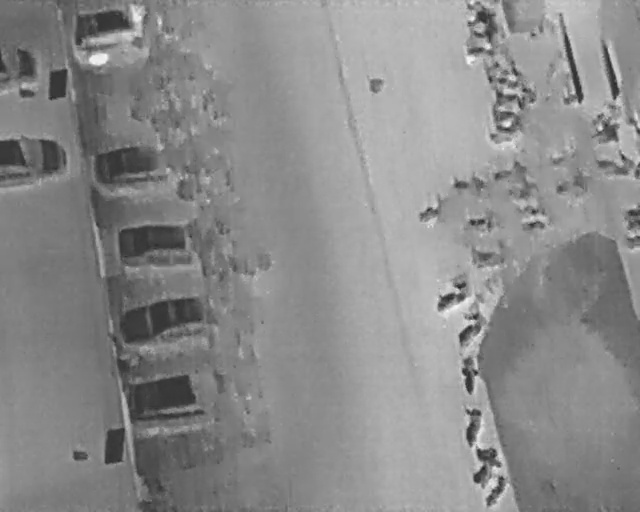Bicycle: (459, 437, 508, 491), (446, 303, 491, 352), (427, 273, 476, 316), (411, 189, 454, 231), (456, 404, 488, 449), (466, 240, 511, 269), (489, 156, 530, 186), (595, 148, 636, 177), (552, 169, 591, 199), (483, 470, 512, 510), (504, 178, 542, 204), (464, 211, 498, 238), (466, 9, 497, 38), (459, 353, 480, 394), (493, 87, 532, 109), (486, 60, 523, 83), (519, 214, 551, 239), (463, 42, 501, 62), (452, 172, 485, 194), (598, 118, 623, 144), (492, 118, 527, 136), (518, 202, 547, 220), (490, 106, 523, 121), (623, 234, 639, 249), (624, 218, 639, 233), (626, 205, 639, 219)
Car: (114, 287, 232, 353), (120, 366, 243, 424), (88, 138, 182, 188), (114, 219, 215, 265), (68, 2, 155, 50), (0, 135, 70, 187), (0, 43, 42, 90)
